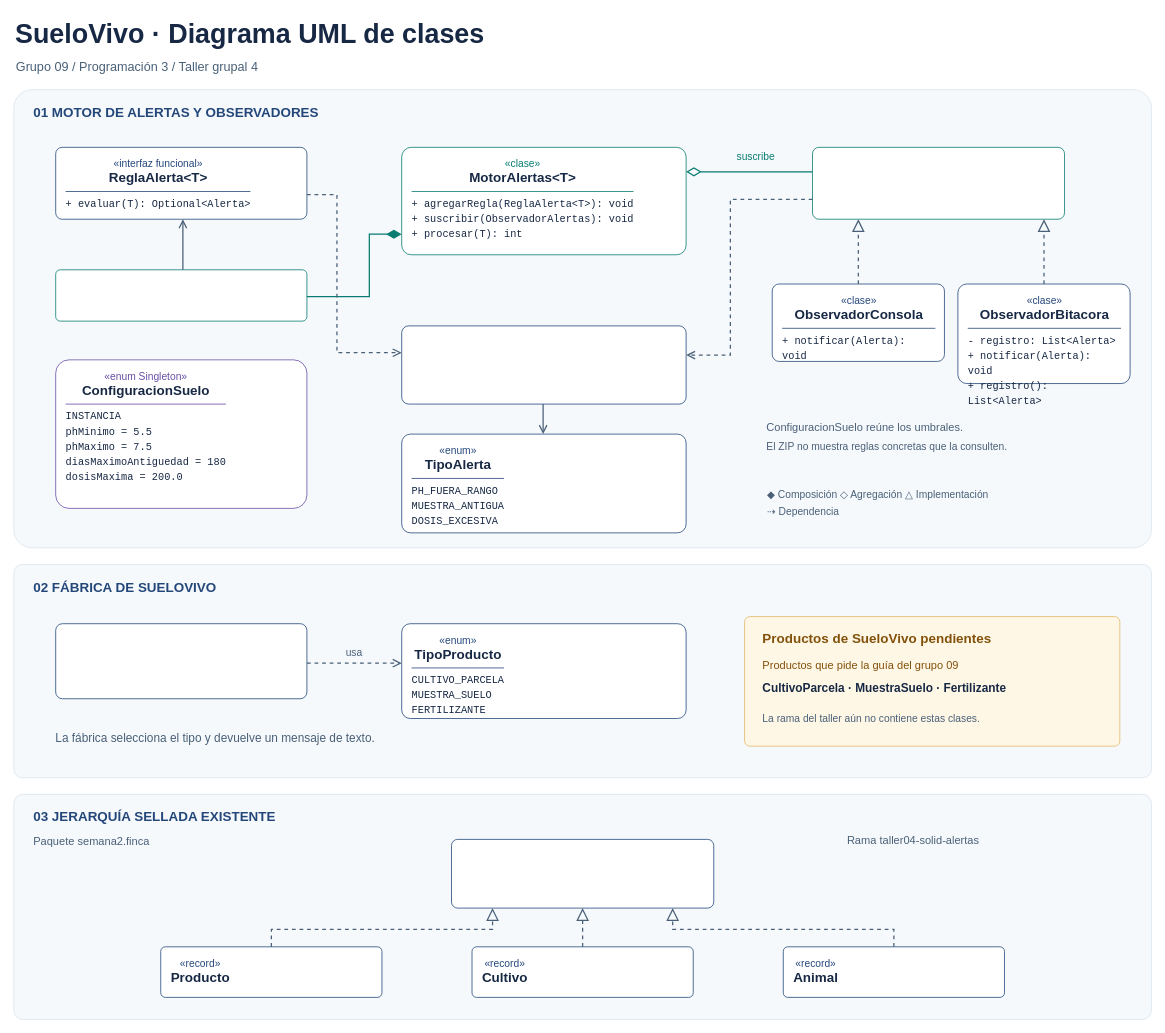
The diagram is 1165 pixels wide and 1033 high, and some of its shapes have lost their labels. The centre of each missing label's shape, as x and y in pixels:
«clase final» FabricaProductos + crear(TipoProducto): String: (181,661)
«colección interna de reglas» List<ReglaAlerta<T>>: (181,295)
«interfaz funcional» ObservadorAlertas + notificar(Alerta): void: (938,183)
«interfaz sellada» Activo + codigo(): String: (582,873)
«record» Alerta tipo: TipoAlerta mensaje: String: (543,364)
